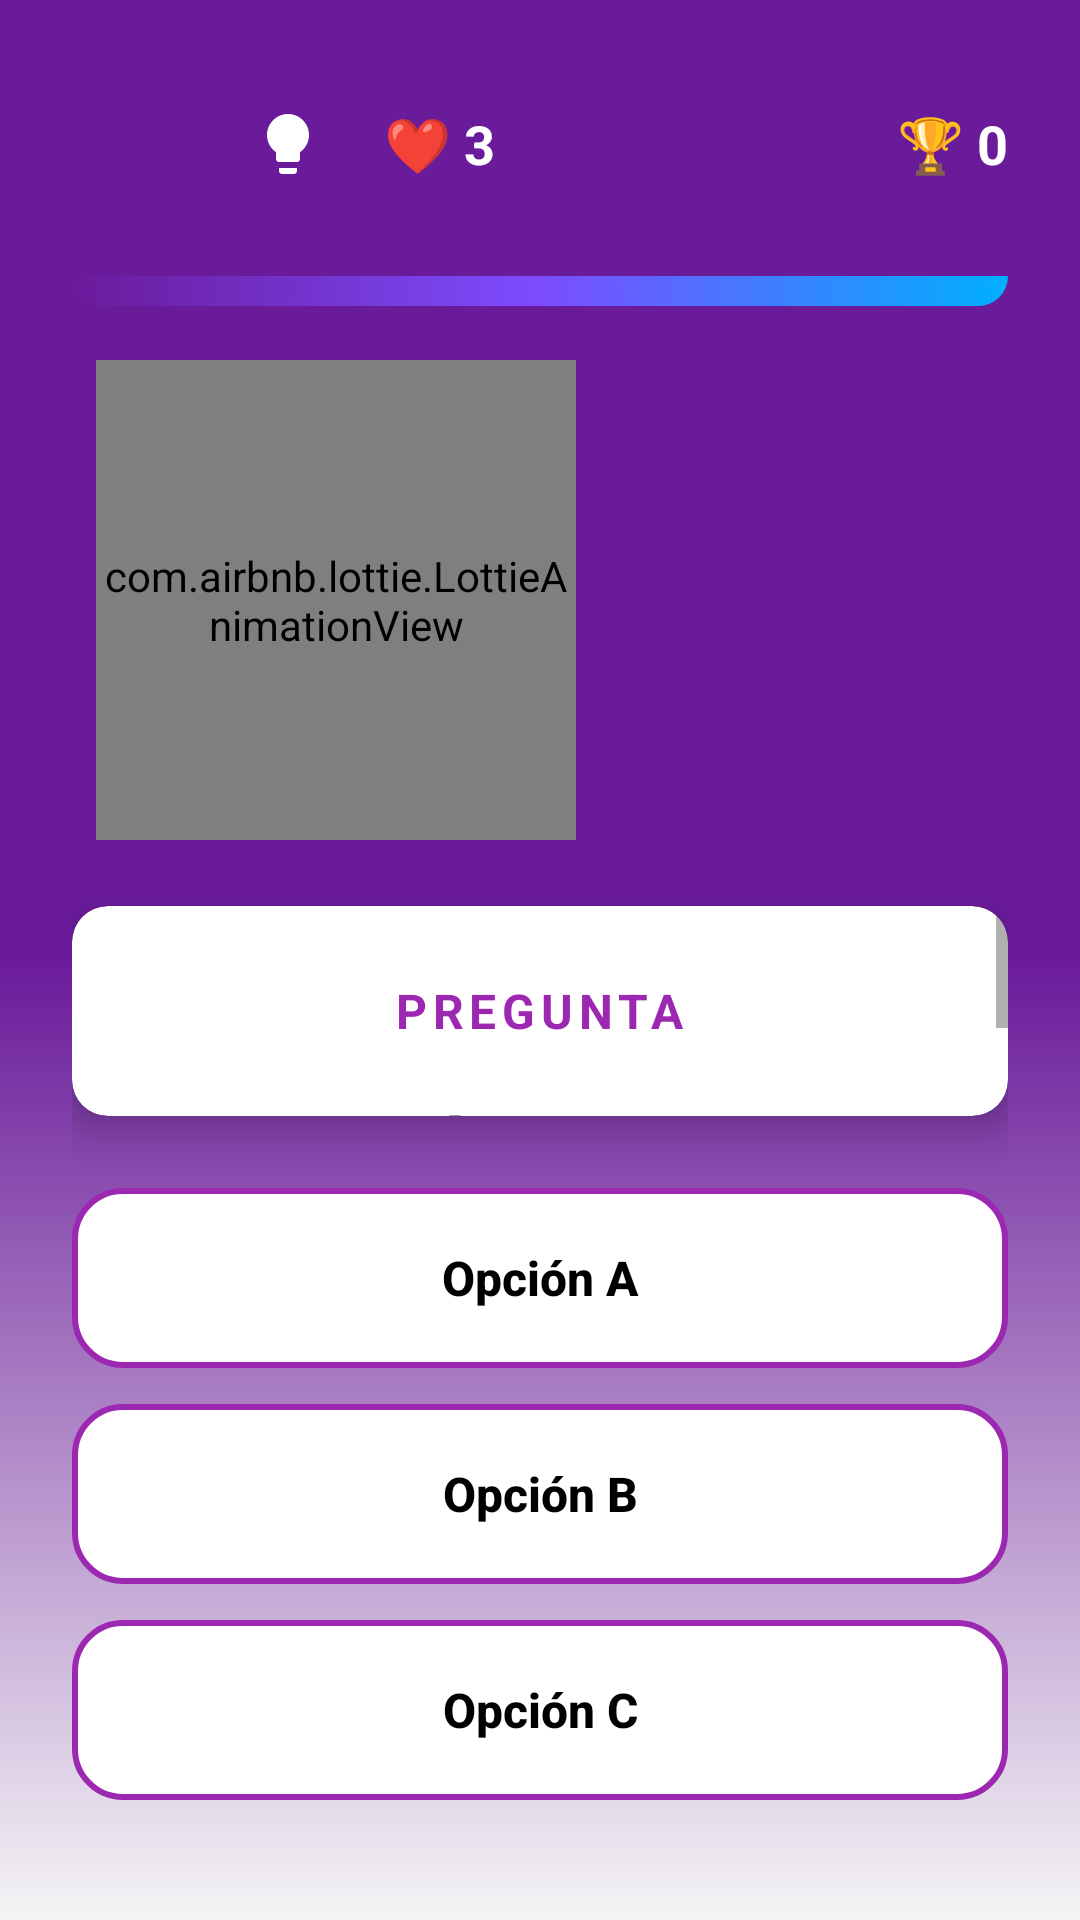

Where to tap for icons on this 1080w x 1920h app screen, as [x,y]:
foco: [288,144]
